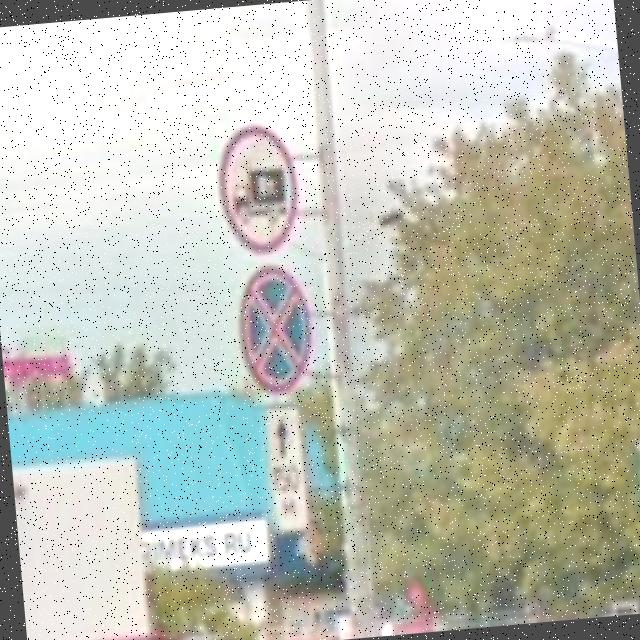Zakaz zatrzymywania sie: (231, 257, 319, 400)
